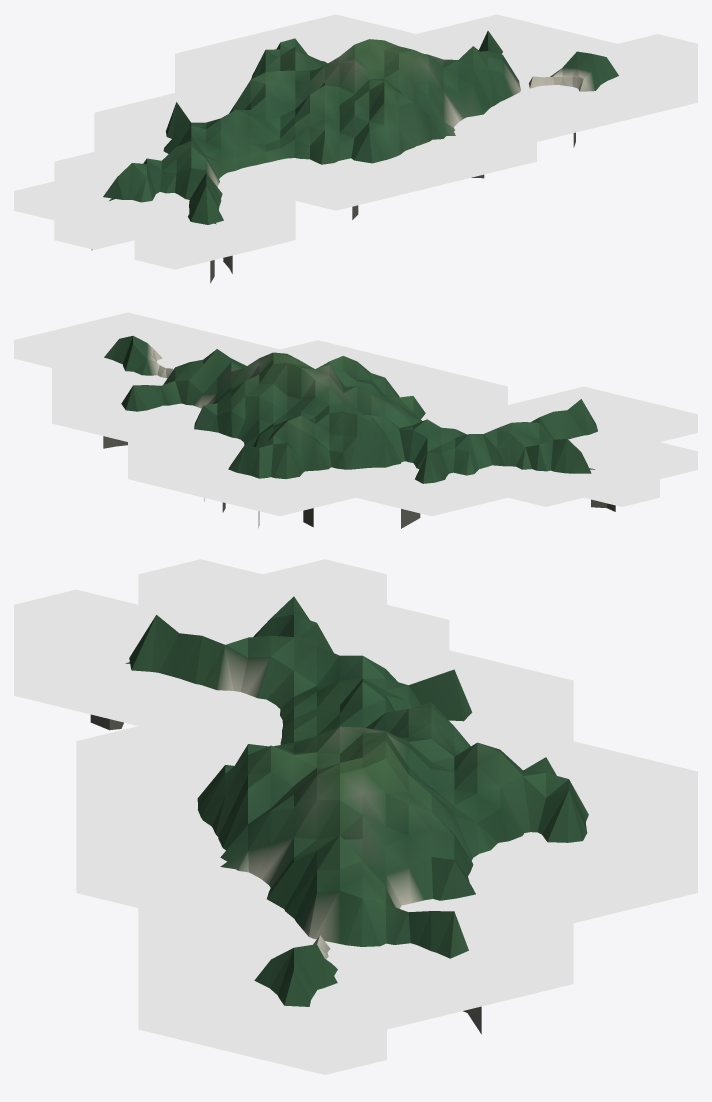
File: landmark-ilha-grande-low.v1.glb
3 renders of one model, top to bottom at view 1: azimuth 30°, elevation 25°; view 2: azimuth 150°, elevation 25°; view 3: azimuth 270°, elevation 25°, orthographic. The views are drawn at different scales.
Visible parts, largest first — view 1: surf, island; view 2: surf, island; view 3: surf, island.
Part boxes in pixels (x1,y1,x2,y2): surf: (14,14,697,269); island: (91,31,618,283); surf: (14,312,697,516); island: (103,336,615,528); surf: (14,559,697,1074); island: (90,596,588,1034).
Bounding box in the file's own units: 48.96 × 7.7 × 27.43.
